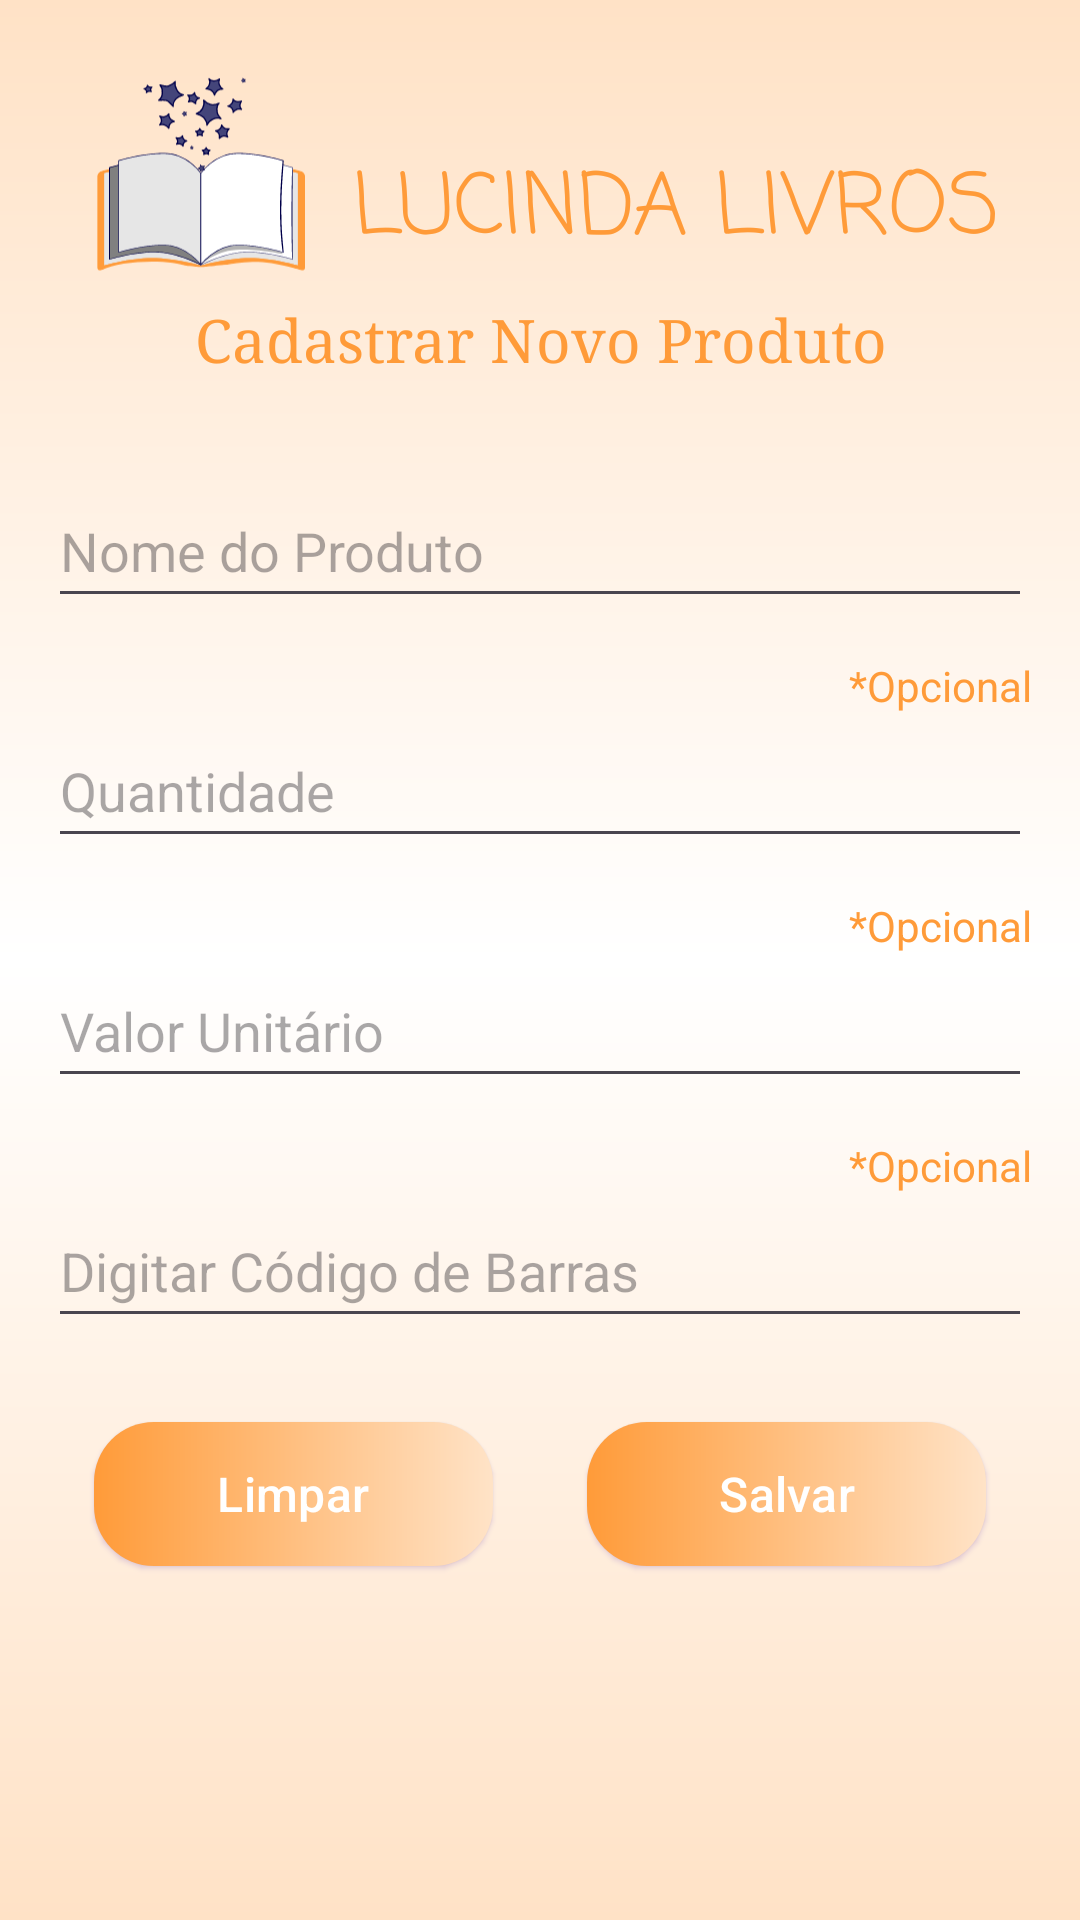

Icon bounding boxes for this 1080×1920 phone screenshot, format bbox(x1, y1, x2, y2):
book: bbox(97, 77, 305, 271)
